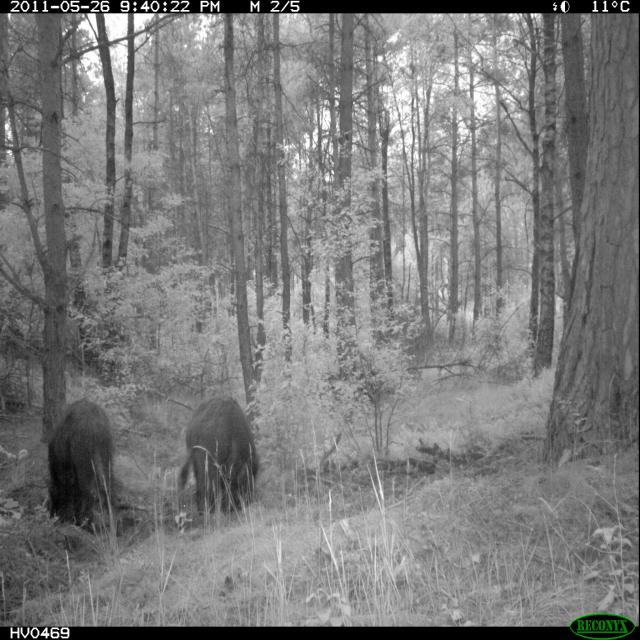boar: (36, 373, 139, 548), (160, 376, 269, 524)
